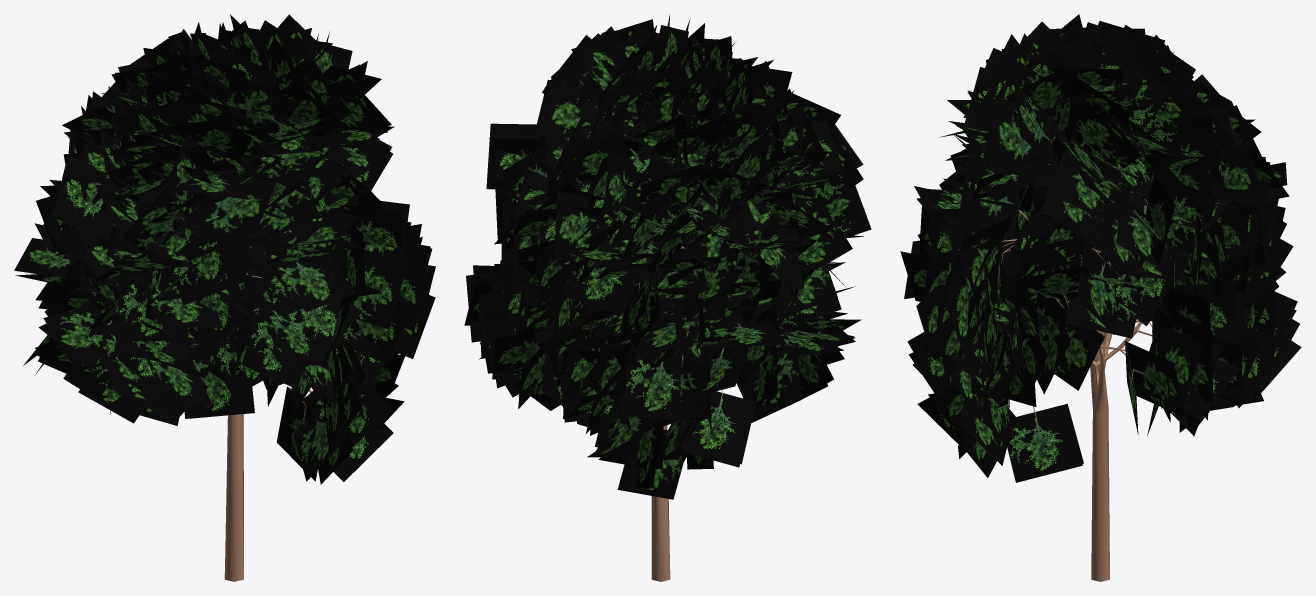
File: tree2.glb
The picture shows the model from 3 angles, left to right: view 1: azimuth 30°, elevation 25°; view 2: azimuth 150°, elevation 25°; view 3: azimuth 270°, elevation 25°; orthographic projection. The views are drawn at different scales.
Bounding box in the file's own units: 9.54 × 13.6 × 9.16.
2 materials, 1 textured.
